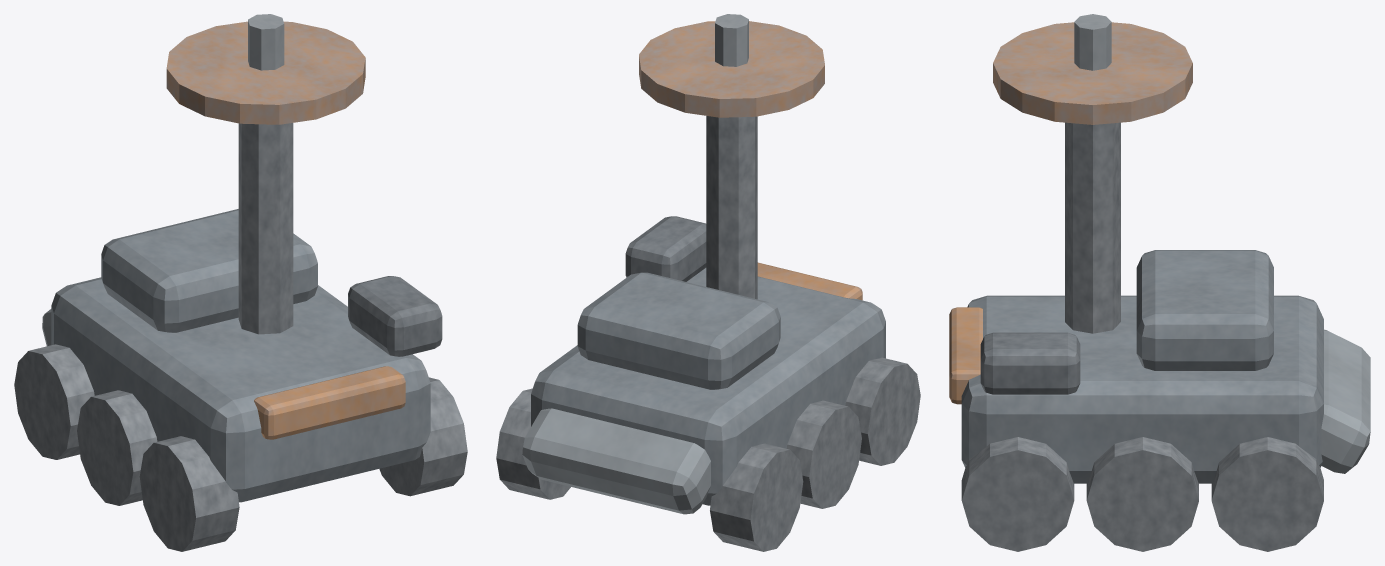
The model's file is dir_sentinel_scout.glb.
The picture shows the model from 3 angles, left to right: view 1: azimuth 30°, elevation 25°; view 2: azimuth 150°, elevation 25°; view 3: azimuth 270°, elevation 25°; orthographic projection. The views are drawn at different scales.
Visible parts, largest first — view 1: dir_sentinel_scout; view 2: dir_sentinel_scout; view 3: dir_sentinel_scout.
Boxes of the visible parts, <box> form: dir_sentinel_scout: <box>14,14,467,551</box>; dir_sentinel_scout: <box>496,14,920,551</box>; dir_sentinel_scout: <box>949,14,1370,551</box>.
Bounding box in the file's own units: 0.5 × 0.82 × 0.6747.
Materials: 1 (1 with a texture image).
